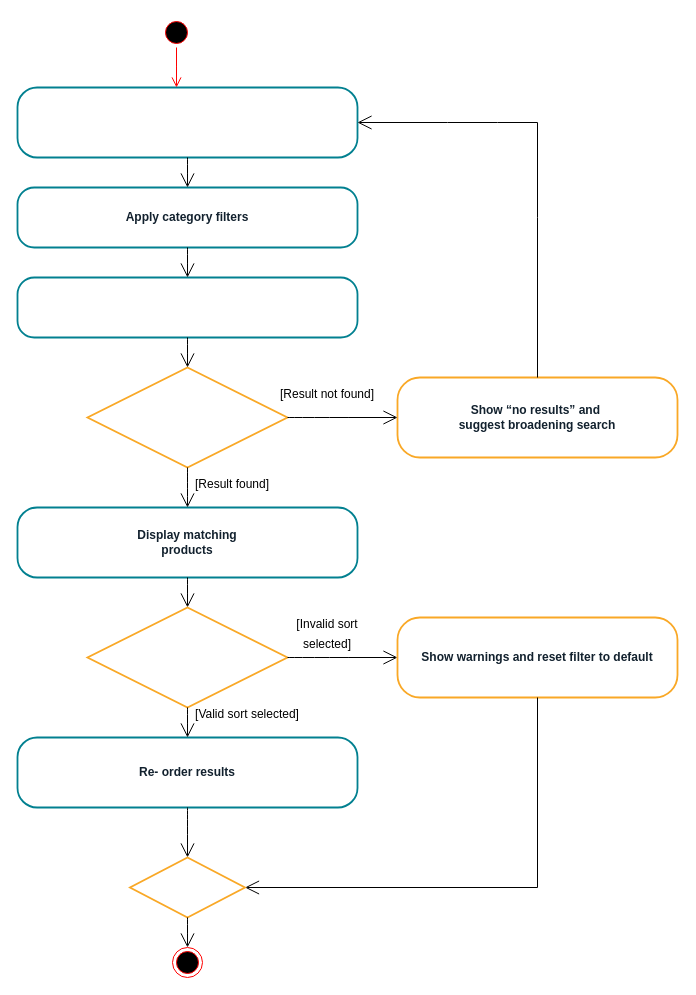
Some shapes in this 696 by 995 pixel diagram are drawn without their labels. Each missing label, with the centre of its shape:
"Buyer / guest enters keyword in search bar" goes at point 187,122.
"System queries active listings" goes at point 187,307.
